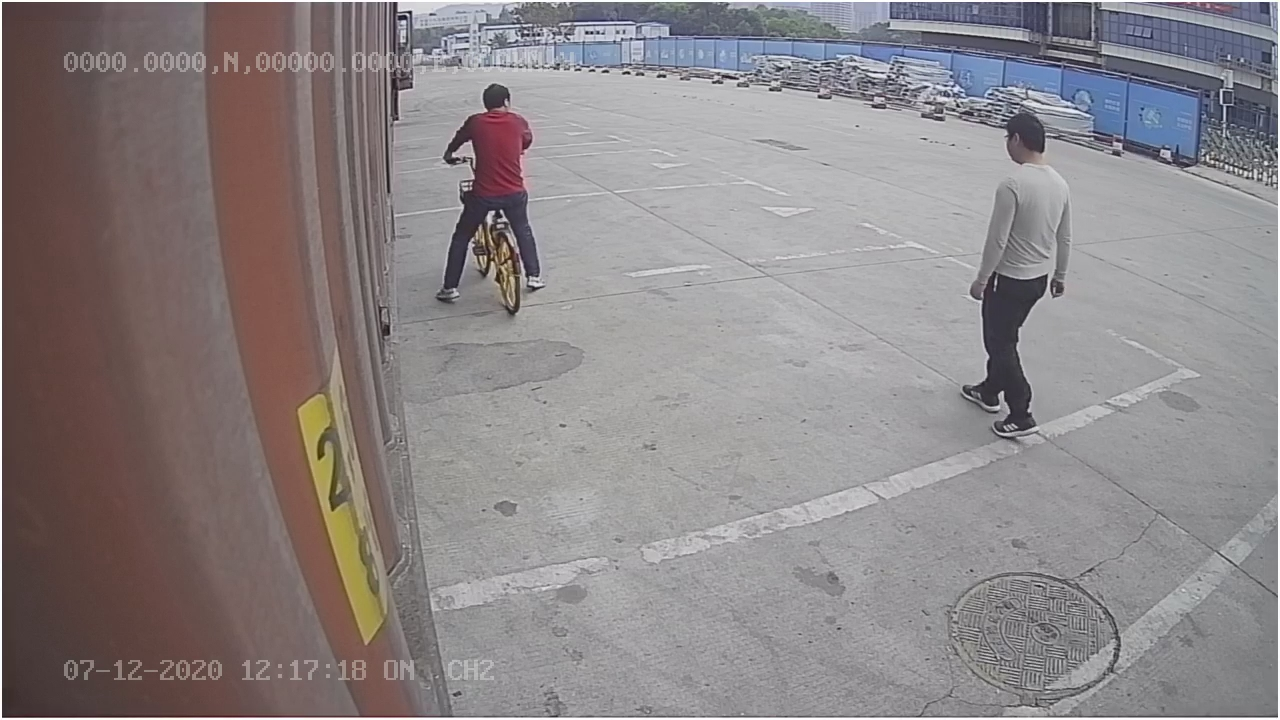person: (954, 106, 1077, 442)
